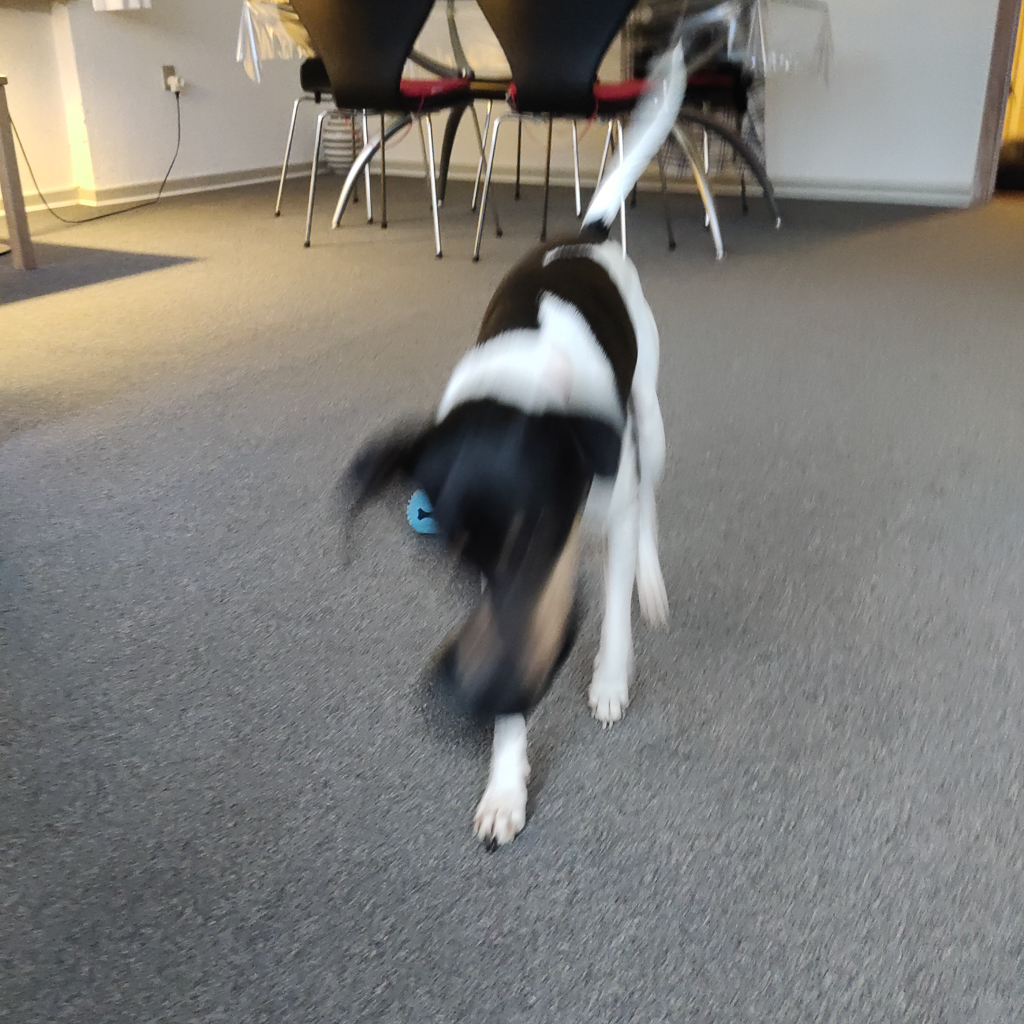Dog: (324, 23, 768, 894)
